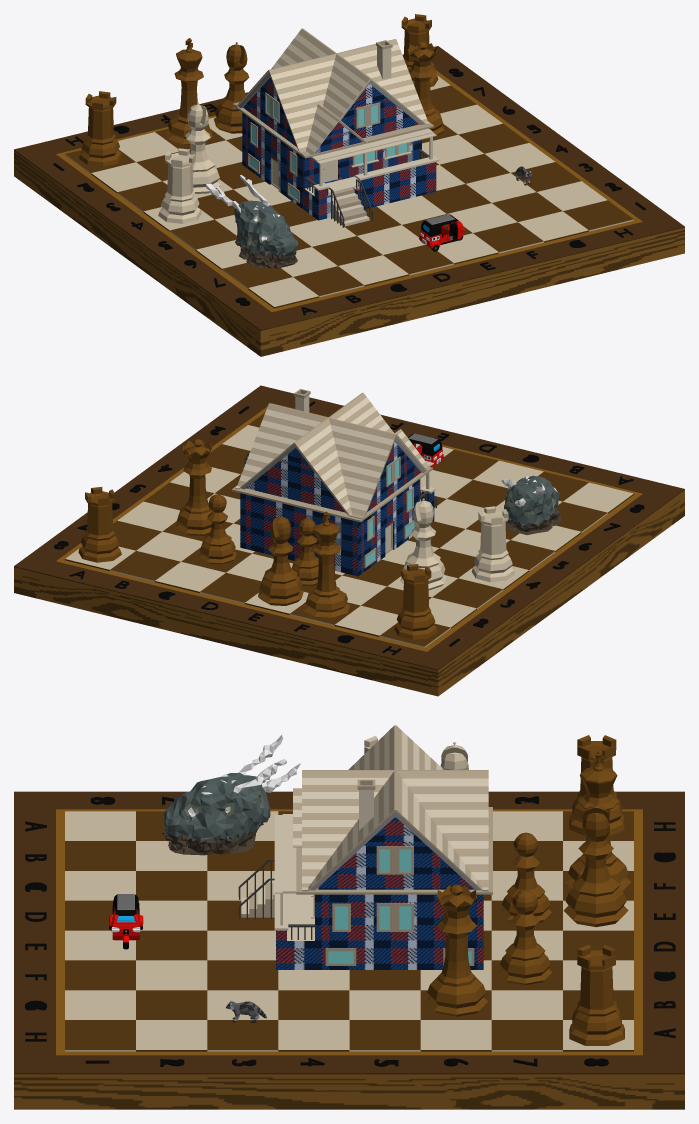
3 views of the same model, one above another, from view 1: azimuth 30°, elevation 25°; view 2: azimuth 150°, elevation 25°; view 3: azimuth 270°, elevation 25° (orthographic). The views are drawn at different scales.
Visible parts, largest first — view 1: Cube.002, Cube.171, OBJRANDOM_METEORITE, VEHICLES_TUC_TUC; view 2: Cube.002, Cube.171, OBJRANDOM_METEORITE, VEHICLES_TUC_TUC; view 3: Cube.002, Cube.171, OBJRANDOM_METEORITE, VEHICLES_TUC_TUC.
Boxes of the visible parts, box(x1,y1,x2,y2) form: Cube.002: box(14, 14, 684, 356); Cube.171: box(232, 28, 439, 227); OBJRANDOM_METEORITE: box(205, 175, 298, 268); VEHICLES_TUC_TUC: box(419, 214, 465, 251); Cube.002: box(14, 385, 684, 696); Cube.171: box(232, 389, 436, 576); OBJRANDOM_METEORITE: box(501, 475, 561, 534); VEHICLES_TUC_TUC: box(407, 433, 444, 467); Cube.002: box(14, 735, 684, 1109); Cube.171: box(238, 725, 492, 969); OBJRANDOM_METEORITE: box(162, 735, 300, 855); VEHICLES_TUC_TUC: box(109, 894, 143, 949).
Size of the model in its own units: 3981 by 1585 by 4012.
Materials: 33 (3 with a texture image).
